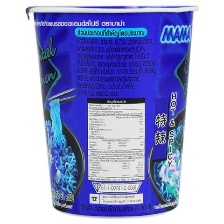paper_cup: (21, 0, 203, 224)
